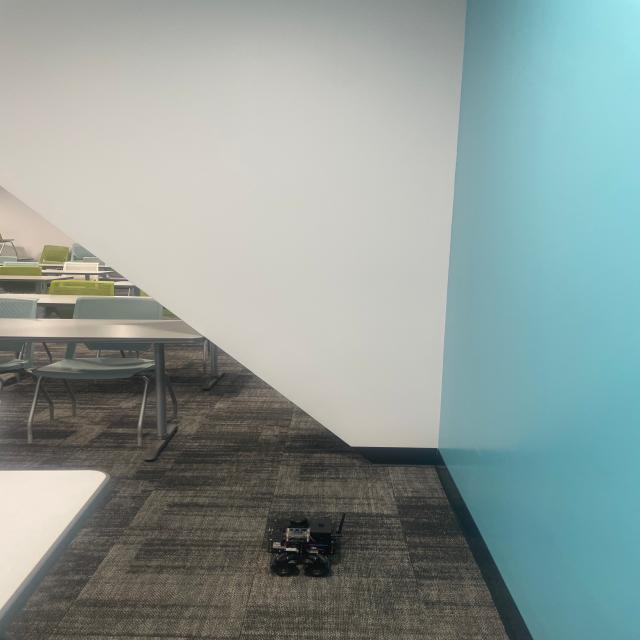ArduinoCar3: (264, 504, 354, 574)
